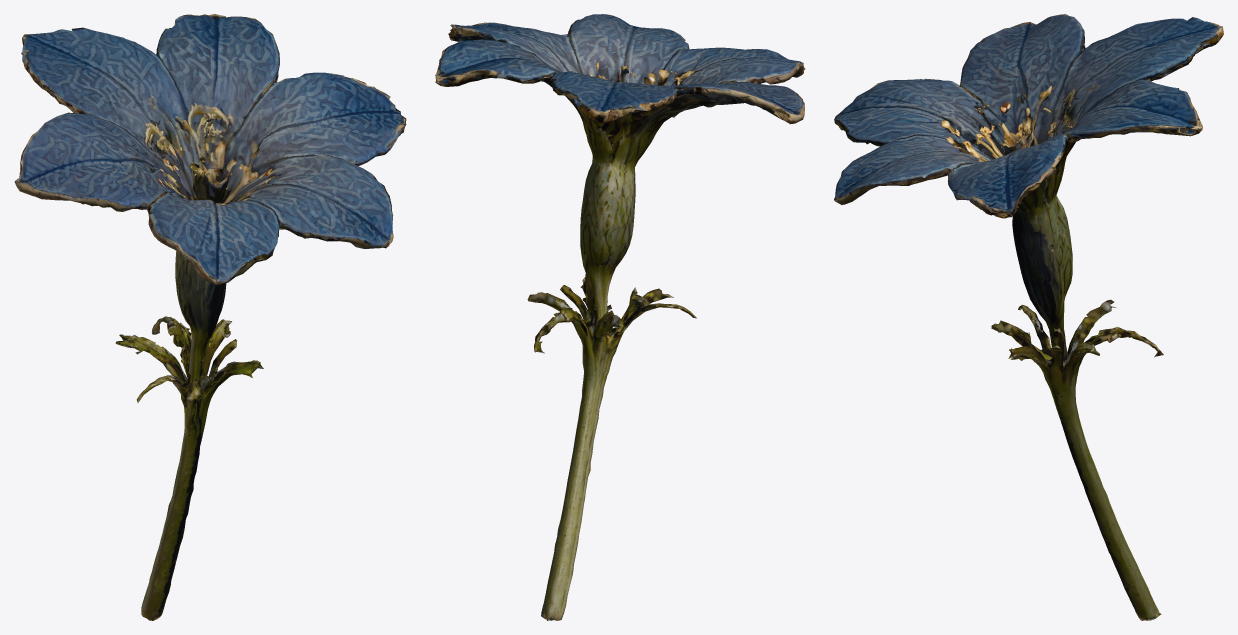
The model's file is Prop_BlueFlower.fbx.
3 renders of one model, left to right at view 1: azimuth 30°, elevation 25°; view 2: azimuth 150°, elevation 25°; view 3: azimuth 270°, elevation 25°, orthographic. The views are drawn at different scales.
Parts seen in each view (by area): view 1: texture_mapping; view 2: texture_mapping; view 3: texture_mapping.
Boxes of the visible parts, box(x1,y1,x2,y2) form: texture_mapping: box(14, 14, 406, 620); texture_mapping: box(435, 14, 805, 620); texture_mapping: box(834, 14, 1223, 620).
Size of the model in its own units: 0.6783 by 0.6355 by 0.9979.
1 material, 1 textured.
